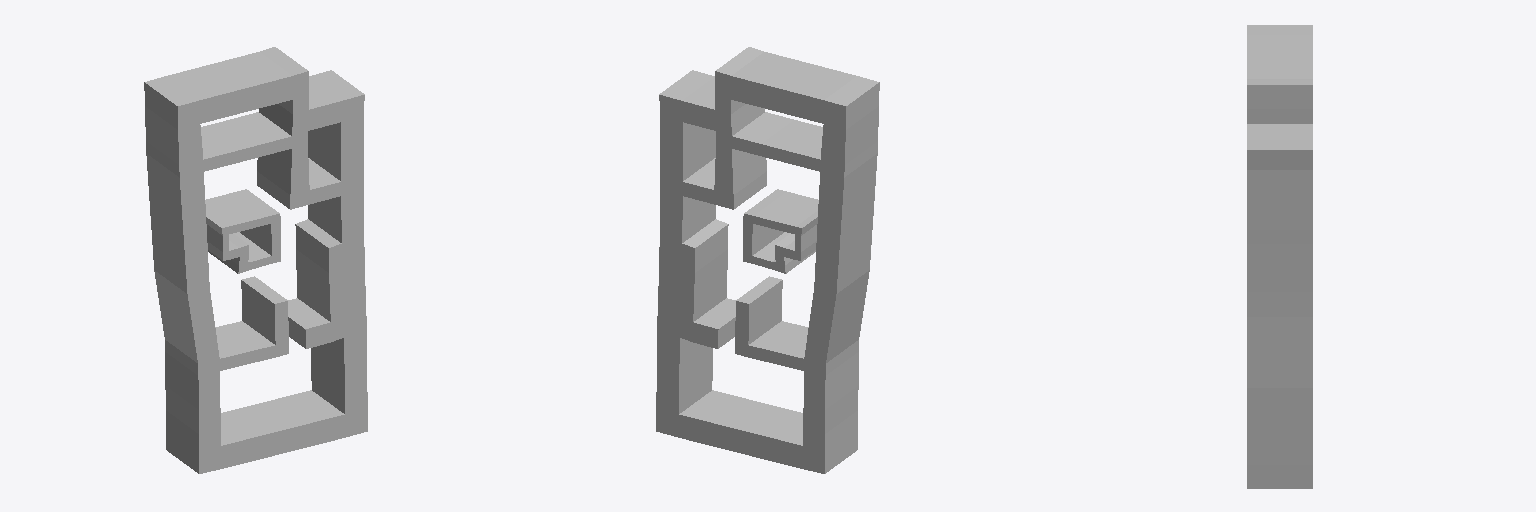
The model's file is sajay_coll_new.obj.
3 renders of one model, left to right at view 1: azimuth 30°, elevation 25°; view 2: azimuth 150°, elevation 25°; view 3: azimuth 270°, elevation 25°, orthographic.
Parts seen in each view (by area): view 1: obstacles, obstacle_1, obstacle_3, bedroom_door, bathroom_door; view 2: obstacles, obstacle_1, obstacle_3, bedroom_door, bathroom_door; view 3: obstacles.
Part boxes in pixels (left/top/right/bottom): obstacles: left=144, top=47, right=367, bottom=473; obstacle_1: left=205, top=189, right=280, bottom=273; obstacle_3: left=165, top=352, right=219, bottom=409; bedroom_door: left=230, top=112, right=291, bottom=155; bathroom_door: left=308, top=158, right=340, bottom=203; obstacles: left=656, top=47, right=879, bottom=473; obstacle_1: left=743, top=189, right=818, bottom=273; obstacle_3: left=804, top=352, right=858, bottom=409; bedroom_door: left=732, top=112, right=793, bottom=155; bathroom_door: left=683, top=158, right=715, bottom=203; obstacles: left=1247, top=25, right=1312, bottom=488.
Bounding box in the file's own units: 9.87 × 18.71 × 3.